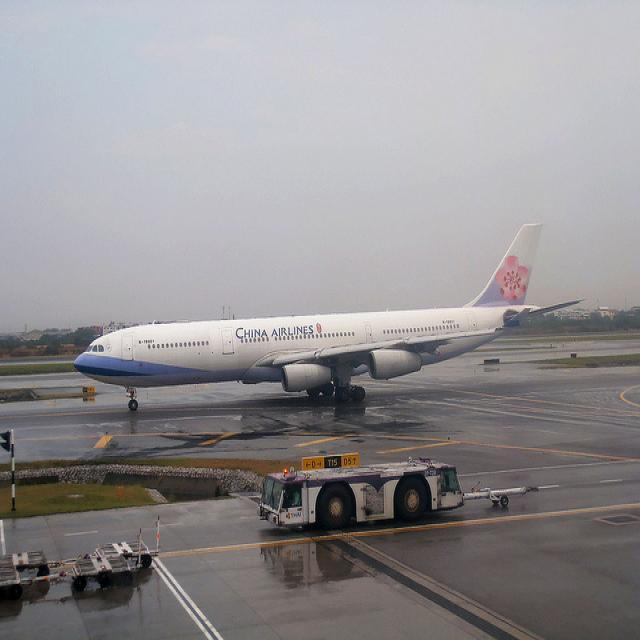Vehicle: (256, 459, 538, 528)
